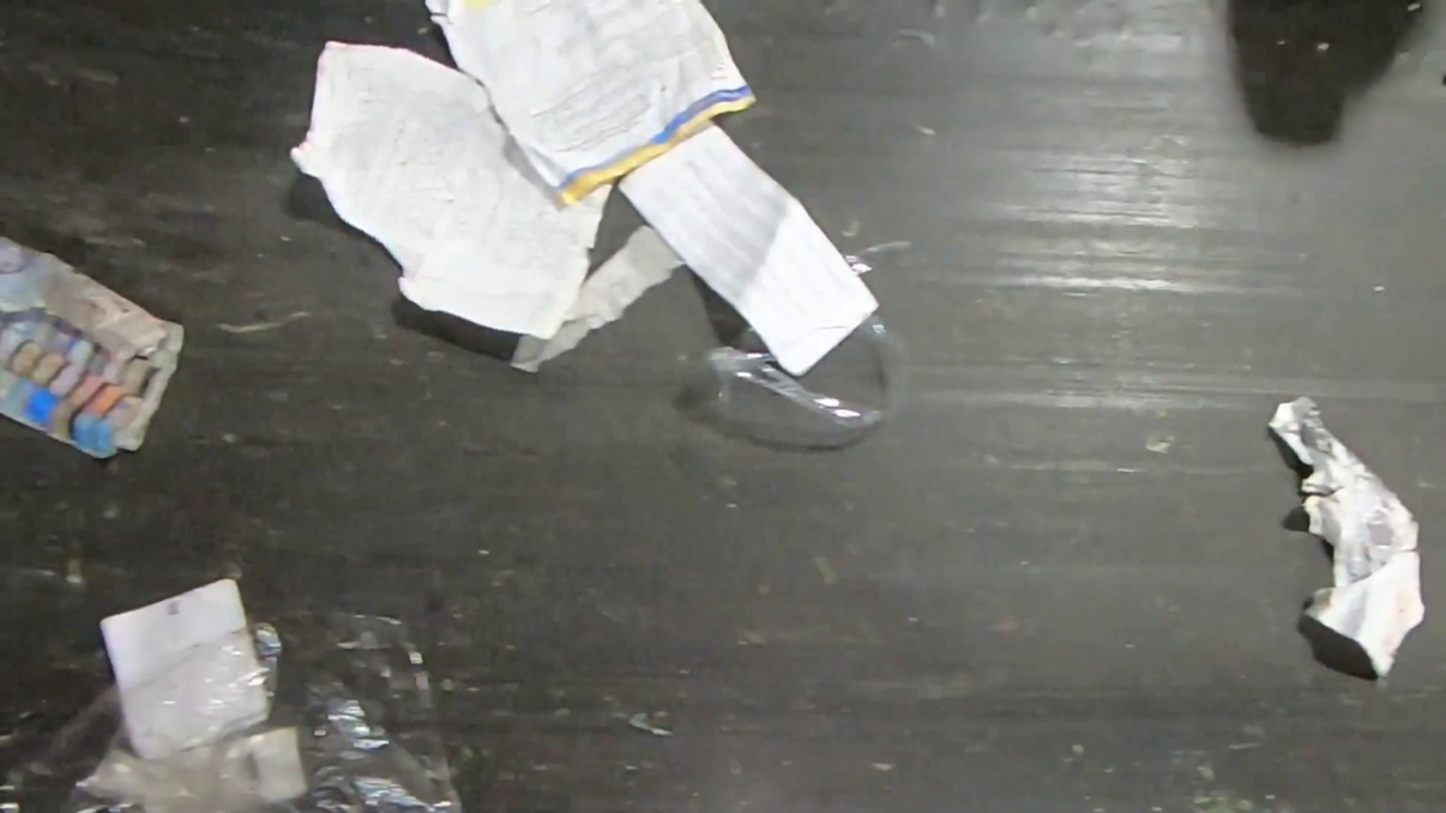plastic: (0, 605, 465, 813), (689, 307, 903, 452)
